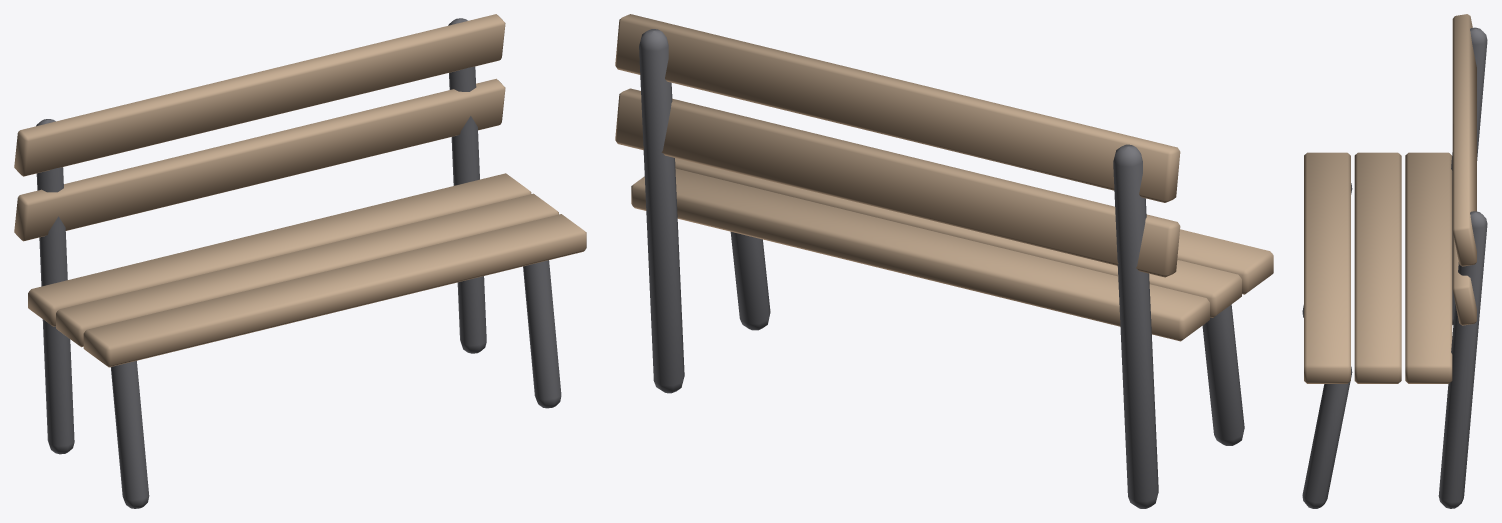
The model's file is bench.glb.
The picture shows the model from 3 angles, left to right: view 1: azimuth 30°, elevation 25°; view 2: azimuth 150°, elevation 25°; view 3: azimuth 270°, elevation 25°; orthographic projection. The views are drawn at different scales.
Visible parts, largest first — view 1: bench; view 2: bench; view 3: bench.
Part boxes in pixels (x1=…): bench: x1=14, y1=14, x2=586, y2=508; bench: x1=615, y1=14, x2=1273, y2=508; bench: x1=1302, y1=14, x2=1487, y2=508.
Size of the model in its own units: 1.4 by 0.9021 by 0.5112.
